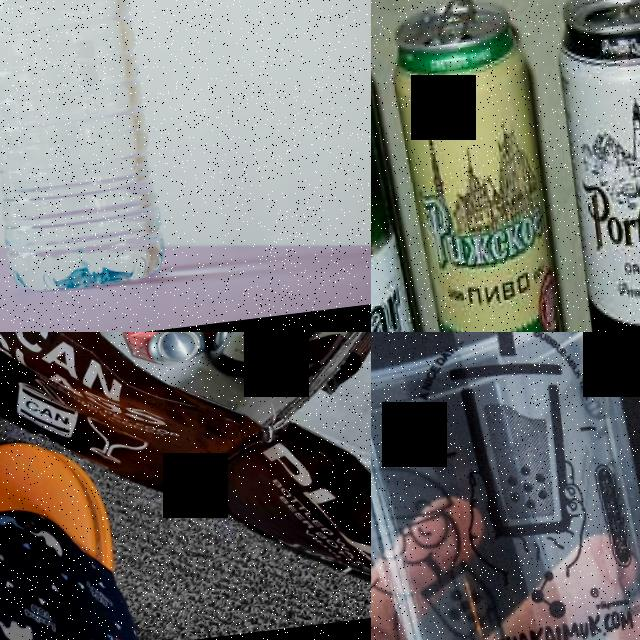bottle: (0, 0, 170, 297)
can: (384, 0, 583, 332), (547, 0, 640, 332), (371, 13, 452, 332)
cup: (371, 332, 640, 640)
